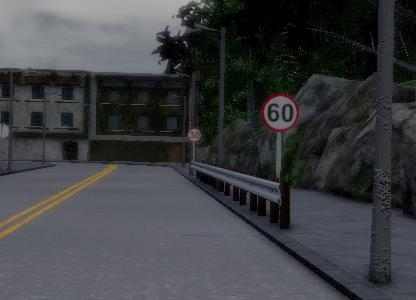Speed_60: (258, 90, 298, 134)
